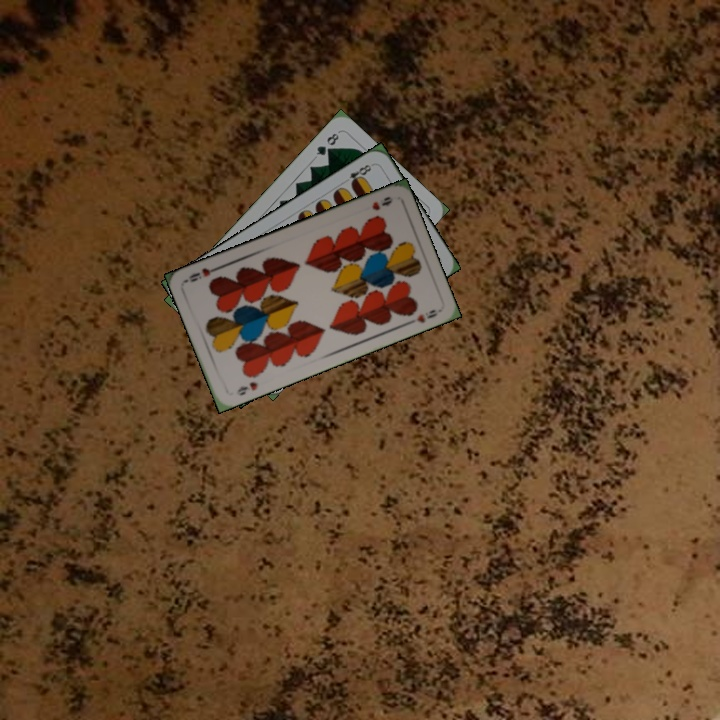E8: (339, 160, 376, 188)
G8: (312, 129, 342, 158)
H9: (368, 192, 395, 213), (232, 378, 260, 398)
